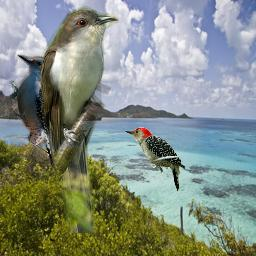Cuckoo: (41, 2, 119, 233)
Woodpecker: (9, 52, 55, 167), (125, 127, 185, 191)
